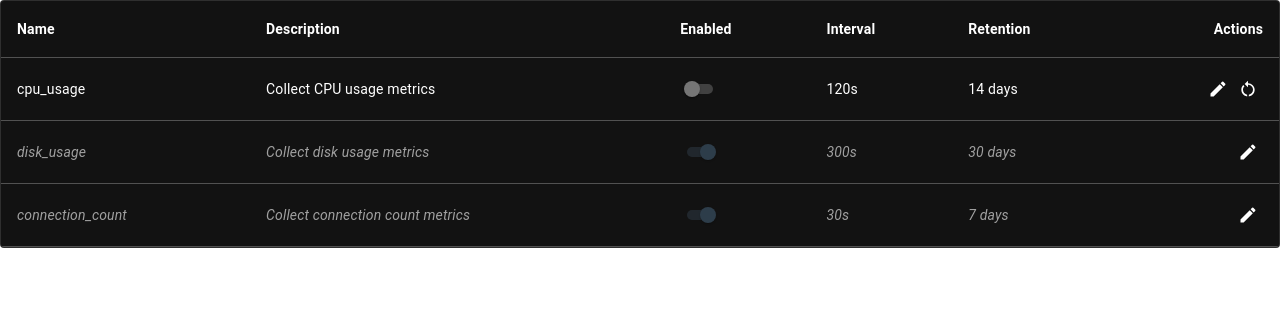
Scenario: ProbeOverridesPanel › shows success banner after a successful reset
Expected: the text "cpu_usage" is shown, x1=1 y1=58 x2=250 y2=120
Click the button named "reset override to default" at (1248, 89), box x1=1233 y1=74 x2=1263 y2=104
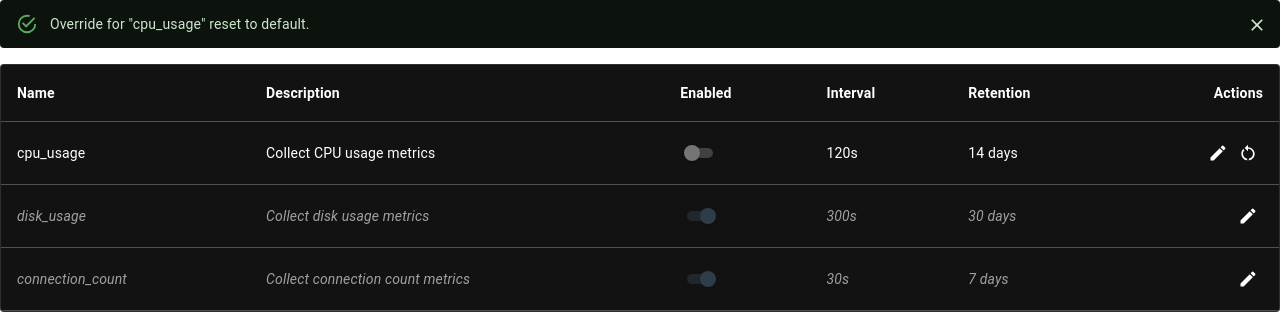
Expected: the text "Override for \"cpu_usage\" reset to default." is shown, x1=50 y1=16 x2=310 y2=32
